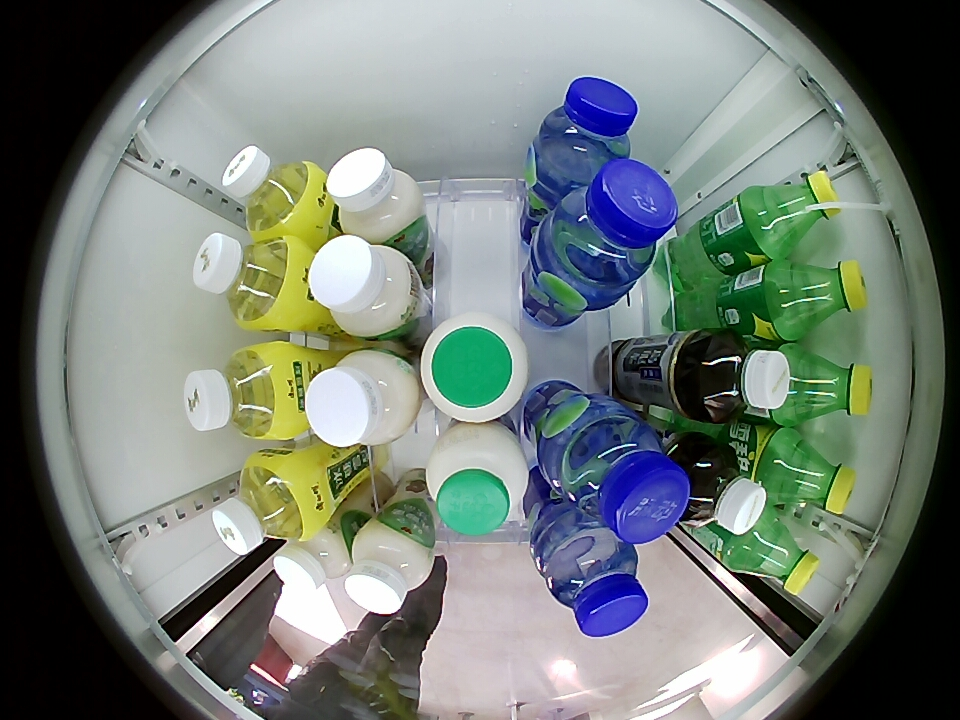bingtangxueli: (184, 343, 301, 441), (193, 232, 306, 331), (211, 453, 318, 556), (221, 146, 322, 239)
liziyuan: (426, 423, 531, 537), (421, 314, 528, 422)
maidong: (543, 159, 679, 293), (553, 414, 690, 544), (543, 528, 649, 638), (535, 77, 639, 183)
wulongcha: (692, 331, 790, 423), (675, 441, 768, 535)
xuebi-b: (758, 170, 841, 252), (738, 514, 820, 596), (773, 434, 856, 515), (782, 259, 867, 333), (791, 348, 873, 423)
yousuanru: (308, 233, 419, 340), (306, 346, 421, 449), (327, 147, 425, 243), (345, 517, 439, 616), (273, 526, 351, 592)
